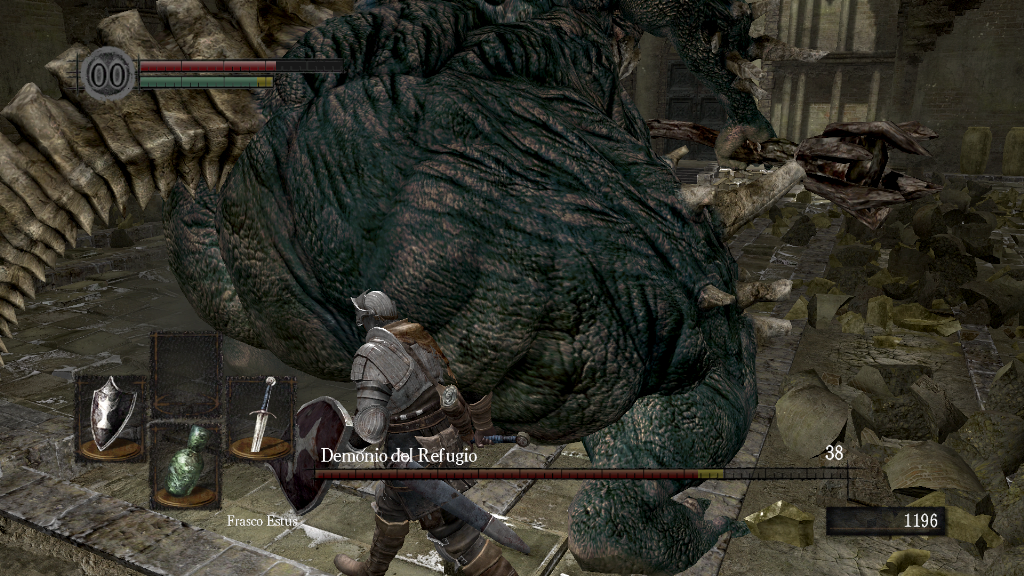asylumDemon: (2, 1, 948, 576)
bossHP: (314, 469, 847, 479)
health: (138, 58, 343, 71)
humanity: (80, 45, 136, 102)
player: (262, 288, 533, 576)
souls: (825, 506, 945, 536)
stamina: (138, 74, 274, 88)
